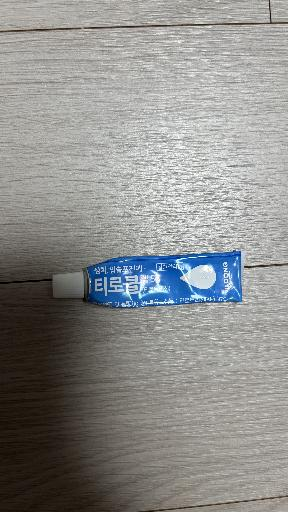ticlo: (49, 253, 243, 309)
